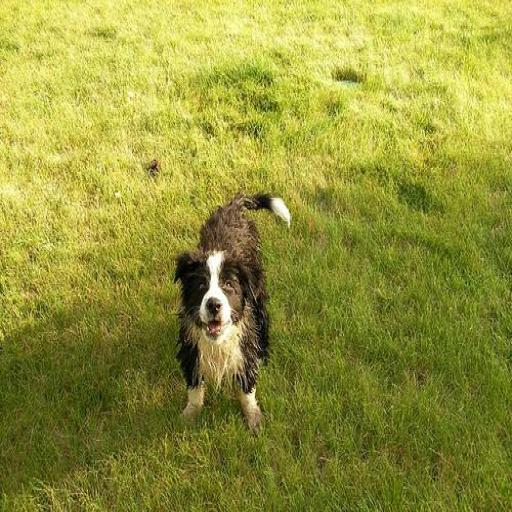dog_face: (168, 238, 256, 346)
